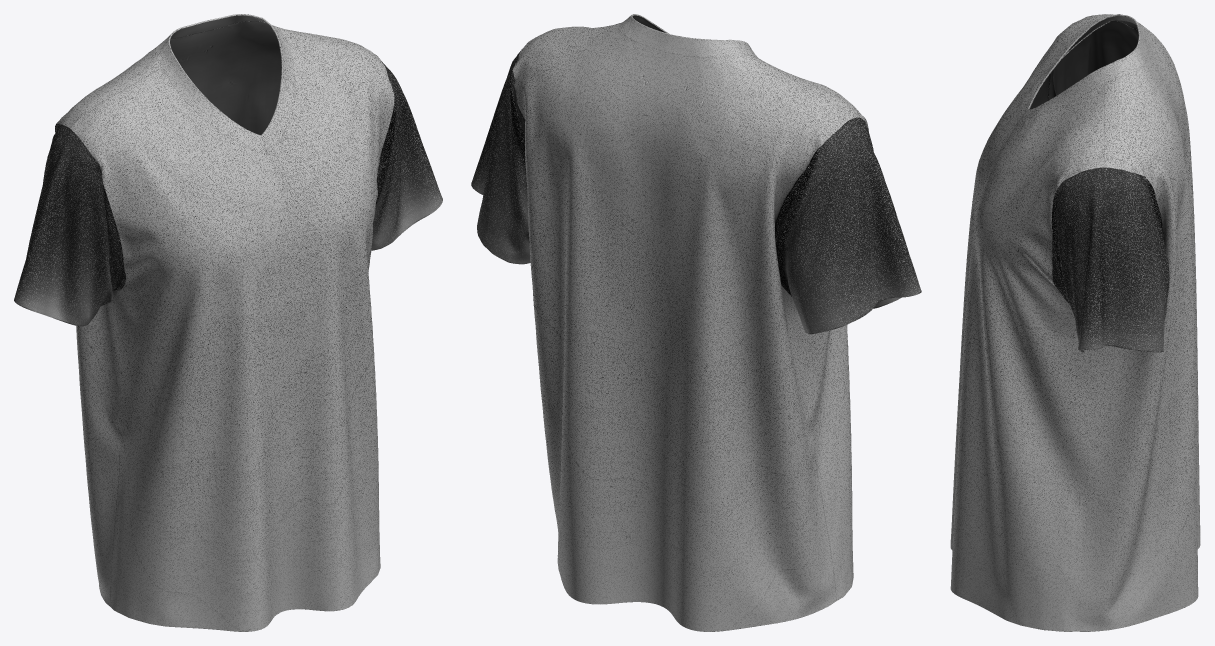
File: t-shirt.glb
3 renders of one model, left to right at view 1: azimuth 30°, elevation 25°; view 2: azimuth 150°, elevation 25°; view 3: azimuth 270°, elevation 25°, orthographic. The views are drawn at different scales.
Visible parts, largest first — view 1: __var_neckline_neck_v__*front_panel, shirt_interior, __var_neckline__neck_v__*back_pannel, __var_neckline_neck_v__*neck_rim, right_sleeve, left_sleeve; view 2: __var_neckline__neck_v__*back_pannel, shirt_interior, __var_neckline_neck_v__*front_panel, right_sleeve, __var_neckline_neck_v__*neck_rim, left_sleeve; view 3: __var_neckline_neck_v__*front_panel, shirt_interior, __var_neckline__neck_v__*back_pannel, left_sleeve, __var_neckline_neck_v__*neck_rim.
Boxes of the visible parts, x1,y1,x2,y2 form: __var_neckline_neck_v__*front_panel: (70,37,394,631); shirt_interior: (14,14,442,631); __var_neckline__neck_v__*back_pannel: (56,21,364,606); __var_neckline_neck_v__*neck_rim: (155,14,294,154); right_sleeve: (15,125,125,325); left_sleeve: (372,71,441,249); __var_neckline__neck_v__*back_pannel: (512,23,847,631); shirt_interior: (471,14,921,631); __var_neckline_neck_v__*front_panel: (530,26,868,600); right_sleeve: (775,118,919,333); __var_neckline_neck_v__*neck_rim: (618,14,757,57); left_sleeve: (471,52,529,264); __var_neckline_neck_v__*front_panel: (950,14,1104,631); shirt_interior: (951,14,1199,631); __var_neckline__neck_v__*back_pannel: (1076,14,1200,631); left_sleeve: (1052,167,1169,351); __var_neckline_neck_v__*neck_rim: (1017,14,1147,124).
Bounding box in the file's own units: 0.5697 × 0.6845 × 0.2888.
4 materials, 4 textured.
